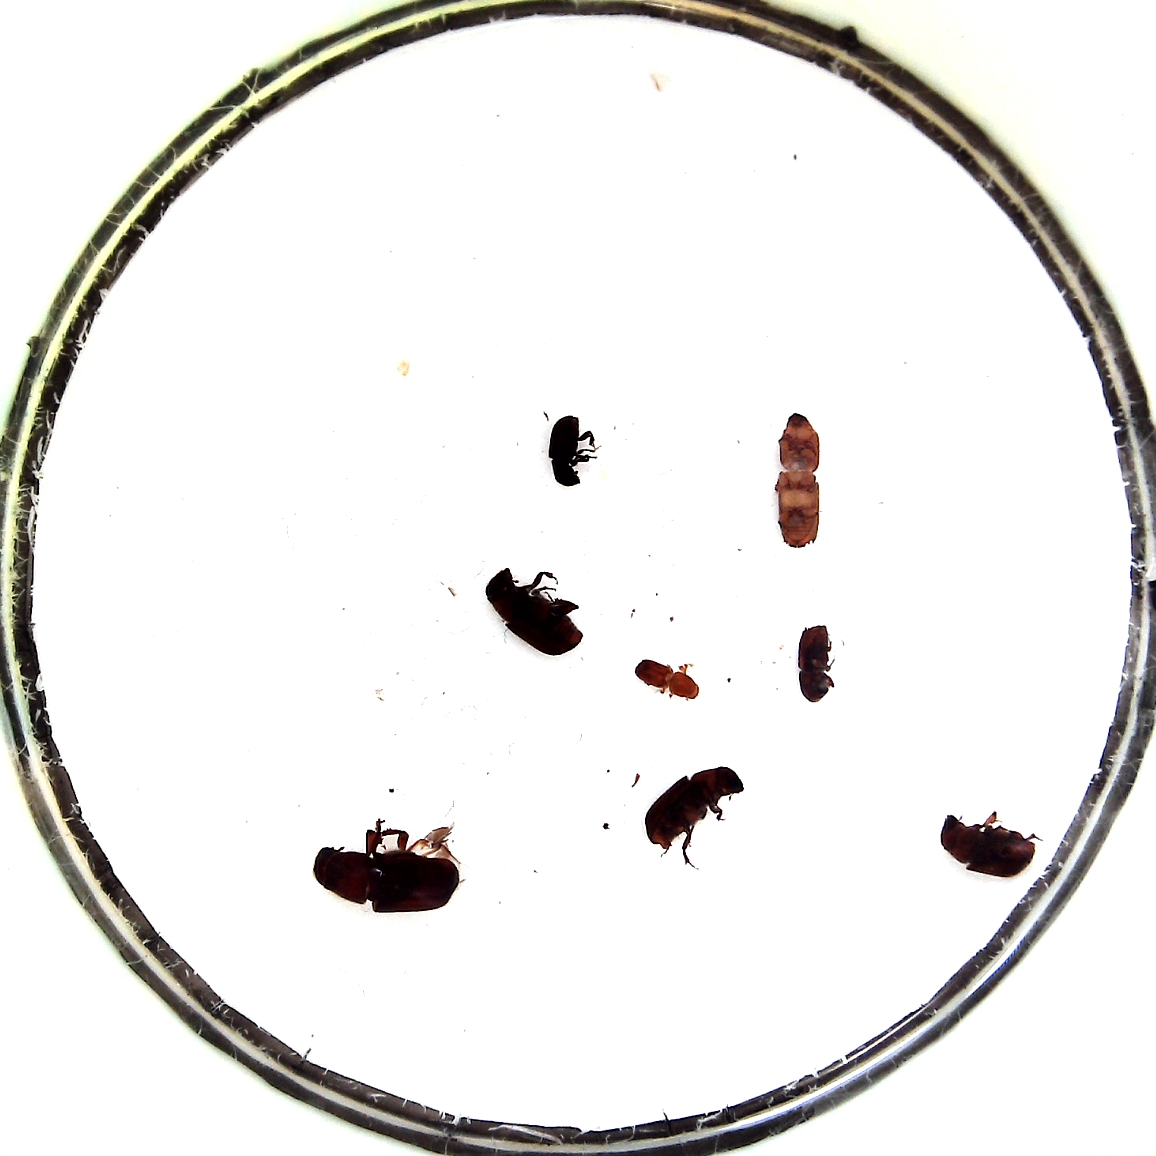Boerner: (775, 412, 826, 553)
Leconte: (314, 824, 462, 917), (483, 562, 588, 657), (640, 765, 745, 852), (937, 811, 1036, 878)
Linnaeus: (795, 619, 836, 704)
acuminatus: (629, 652, 699, 701)
armandi: (545, 411, 595, 489)
